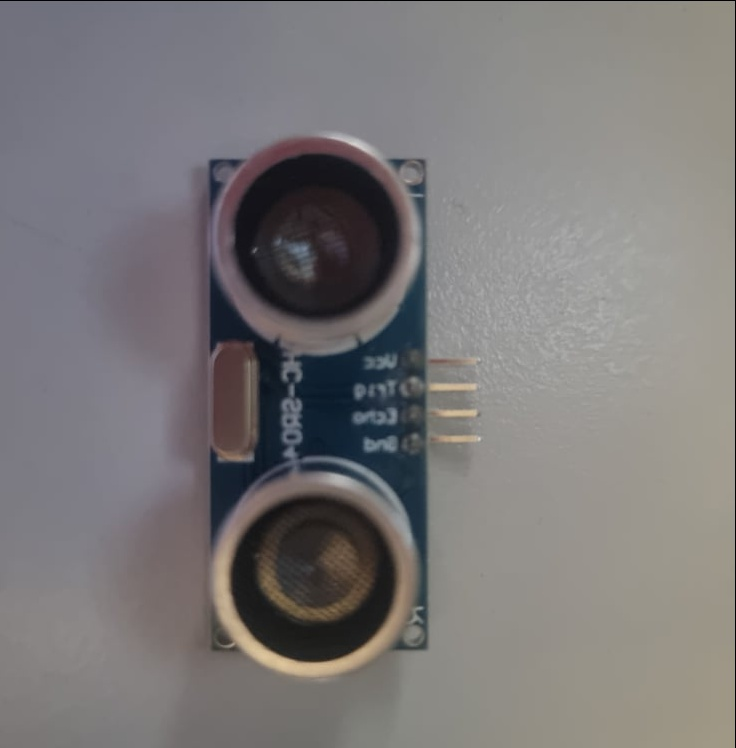SENSOR: (206, 122, 483, 681)
